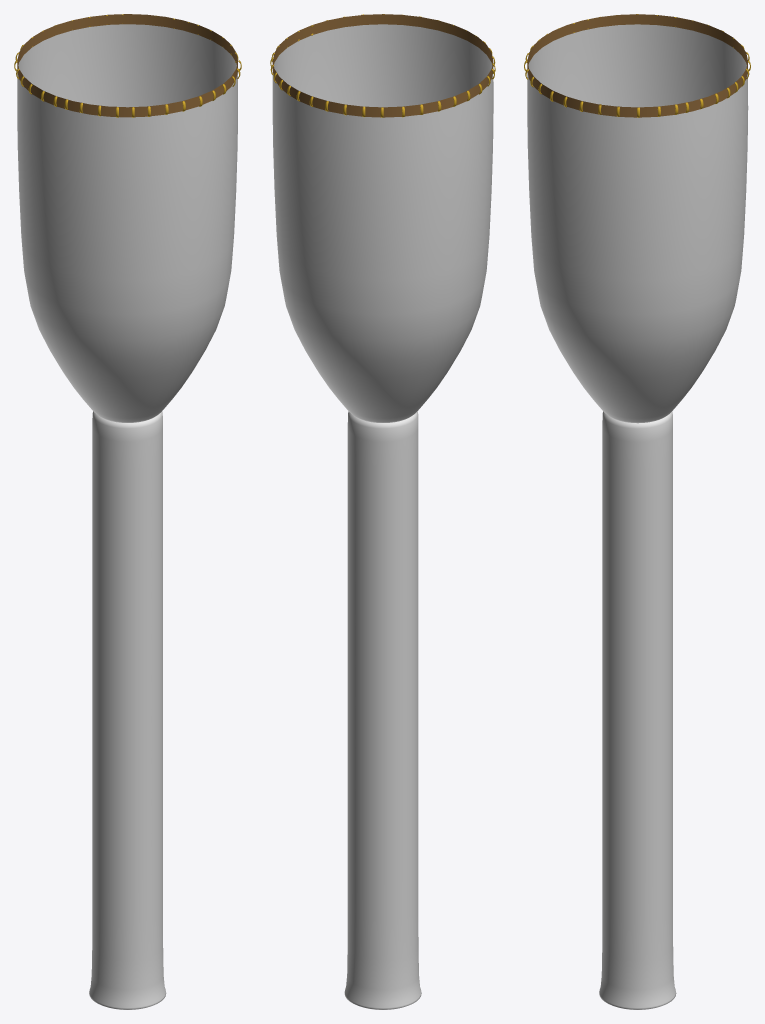
The model's file is perangkap ikan.fbx.
3 renders of one model, left to right at view 1: azimuth 30°, elevation 25°; view 2: azimuth 150°, elevation 25°; view 3: azimuth 270°, elevation 25°, orthographic.
Visible parts, largest first — view 1: Circle.002, Circle, Circle.003; view 2: Circle.002, Circle, Circle.003; view 3: Circle.002, Circle, Circle.003.
Boxes of the visible parts, bbox=[...] form: Circle.002: bbox=[17, 14, 237, 422]; Circle: bbox=[89, 411, 166, 1009]; Circle.003: bbox=[14, 14, 241, 117]; Circle.002: bbox=[272, 14, 493, 422]; Circle: bbox=[344, 411, 421, 1009]; Circle.003: bbox=[270, 14, 495, 117]; Circle.002: bbox=[527, 14, 748, 423]; Circle: bbox=[599, 411, 676, 1009]; Circle.003: bbox=[524, 14, 750, 117].
Size of the model in its own units: 495 by 2253 by 496.
